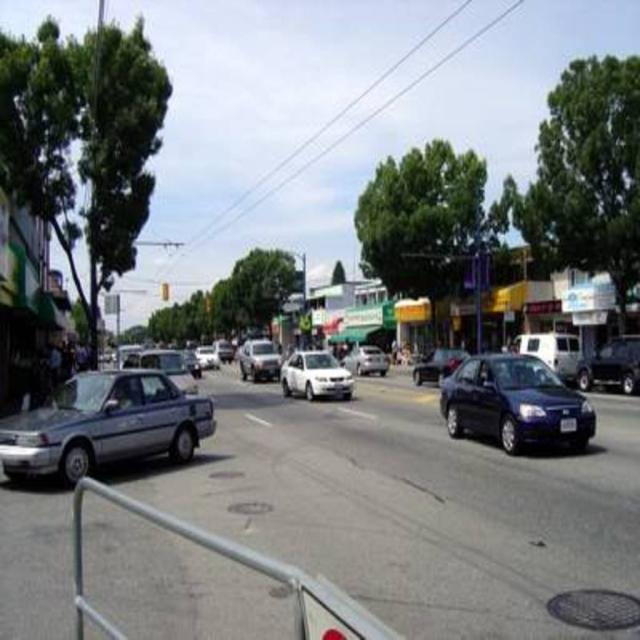car: (3, 355, 215, 485), (443, 353, 601, 455), (280, 344, 353, 404), (234, 332, 284, 385), (189, 339, 220, 368)
